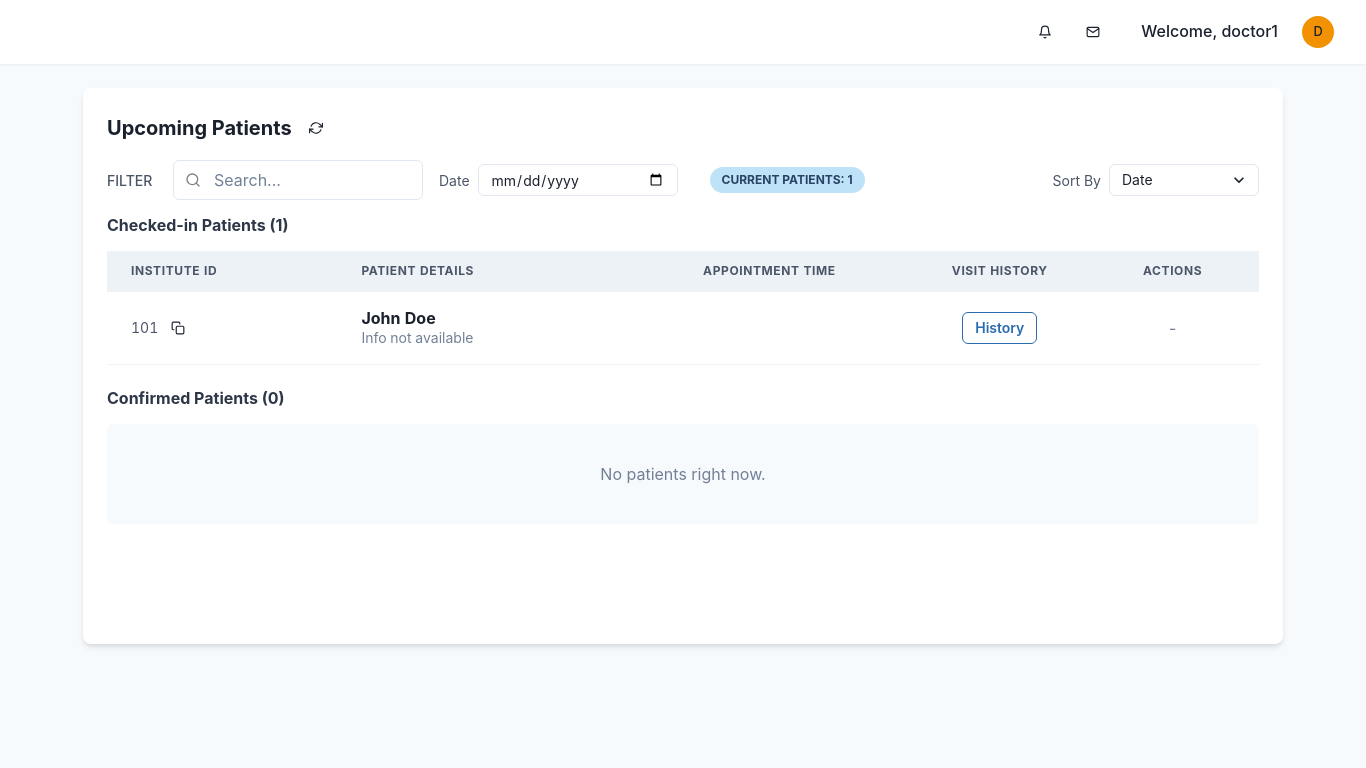
Test: DoctorsDashboard Component › handles viewing history without past visits
Expected: the text "John Doe" is shown, [361,308,436,328]
What coordinates should you click on to do the following:
click the button "History"
I would click on:
 (1000, 328)
Its box is [962,312,1037,344].
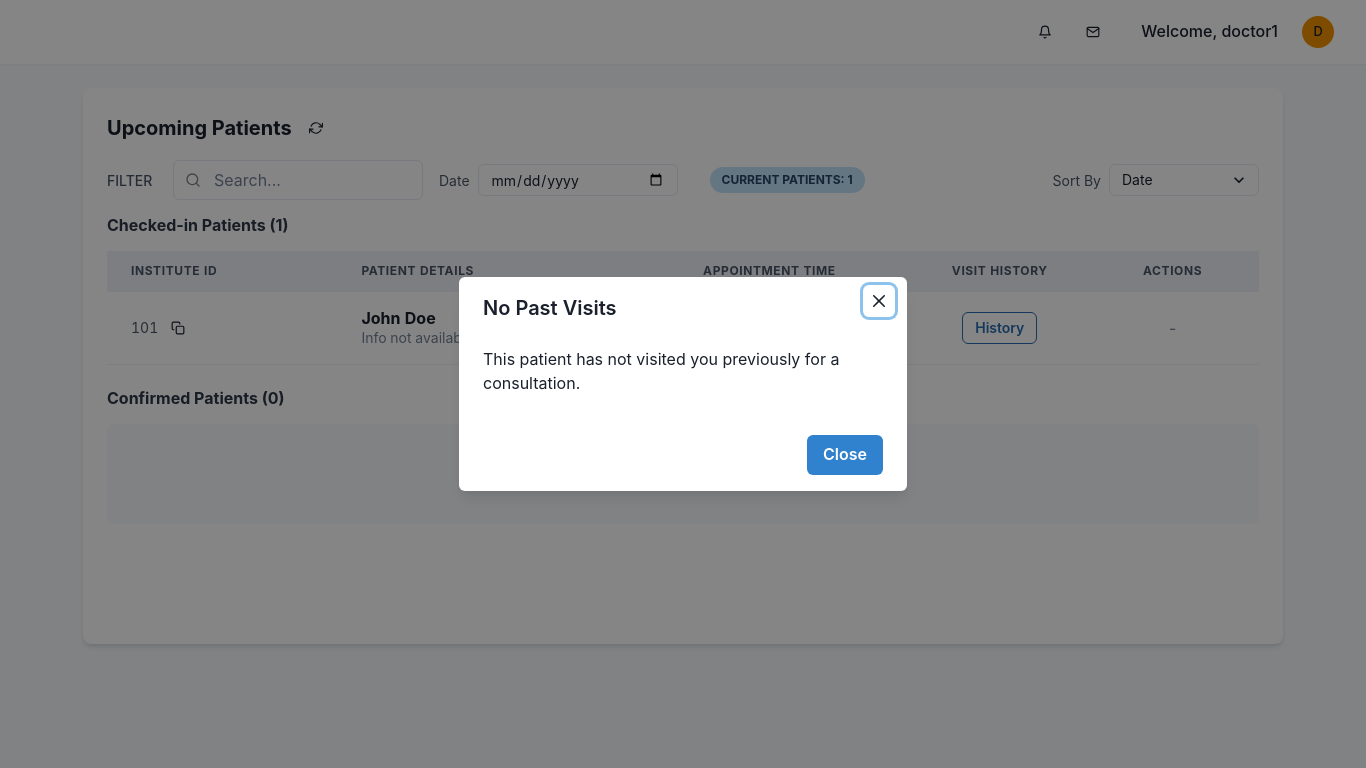
Expected: the text "No Past Visits" is shown, [483,296,617,320]
Expected: the text "This patient has not visited you previously for a consultation." is shown, [483,347,883,395]
